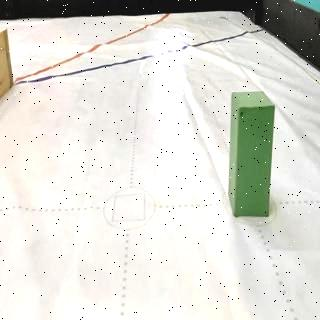greenbox: (228, 90, 276, 218)
